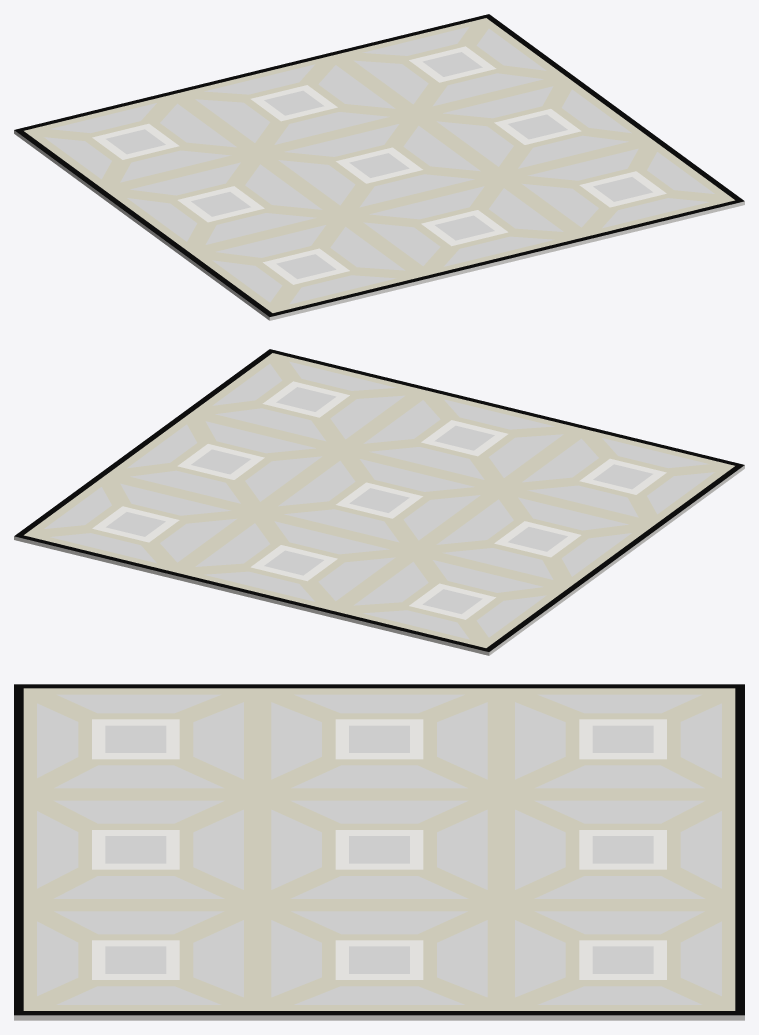
3 renders of one model, top to bottom at view 1: azimuth 30°, elevation 25°; view 2: azimuth 150°, elevation 25°; view 3: azimuth 270°, elevation 25°, orthographic. The views are drawn at different scales.
Parts seen in each view (by area): view 1: Cube; view 2: Cube; view 3: Cube.
Boxes of the visible parts, x1,y1,x2,y2 form: Cube: (14, 14, 744, 320); Cube: (14, 349, 744, 655); Cube: (14, 684, 744, 1020).
Bounding box in the file's own units: 2089 × 15.73 × 1948.
